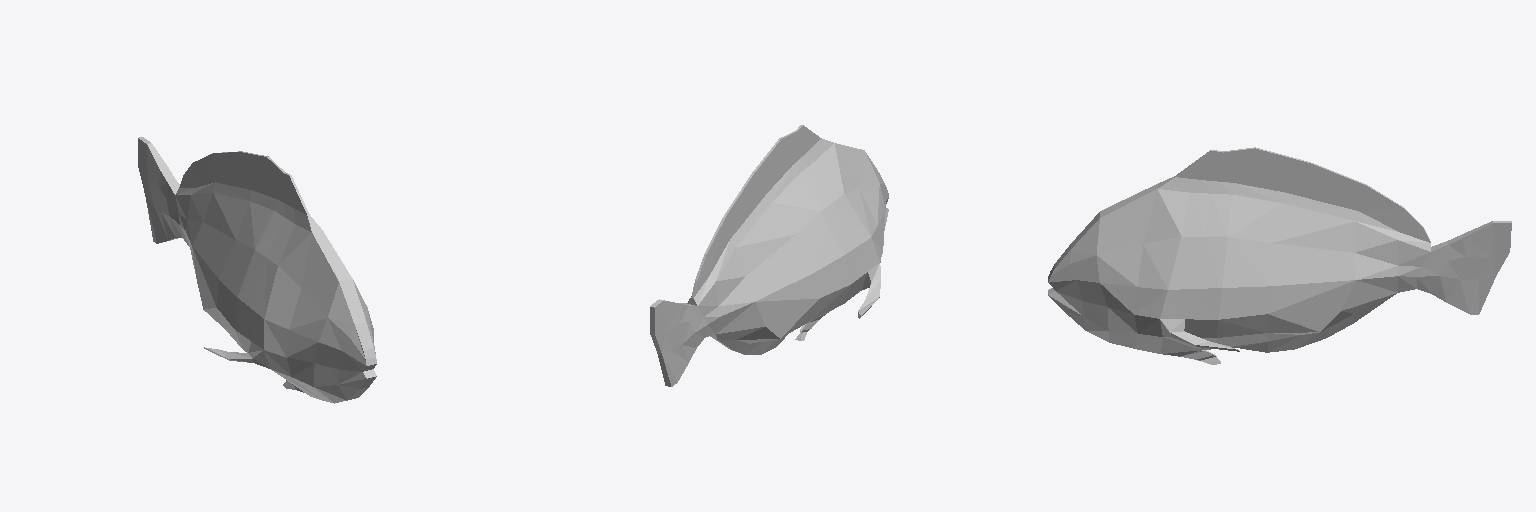
Rendered from fish2.obj.
3 renders of one model, left to right at view 1: azimuth 30°, elevation 25°; view 2: azimuth 150°, elevation 25°; view 3: azimuth 270°, elevation 25°, orthographic.
Visible parts, largest first — view 1: TropicalFish02:TropicalFish02; view 2: TropicalFish02:TropicalFish02; view 3: TropicalFish02:TropicalFish02.
Part boxes in pixels (bbox=[...]): TropicalFish02:TropicalFish02: bbox=[138, 137, 376, 403]; TropicalFish02:TropicalFish02: bbox=[650, 125, 888, 386]; TropicalFish02:TropicalFish02: bbox=[1048, 147, 1511, 364].
Size of the model in its own units: 1.61 by 2.3 by 4.48.